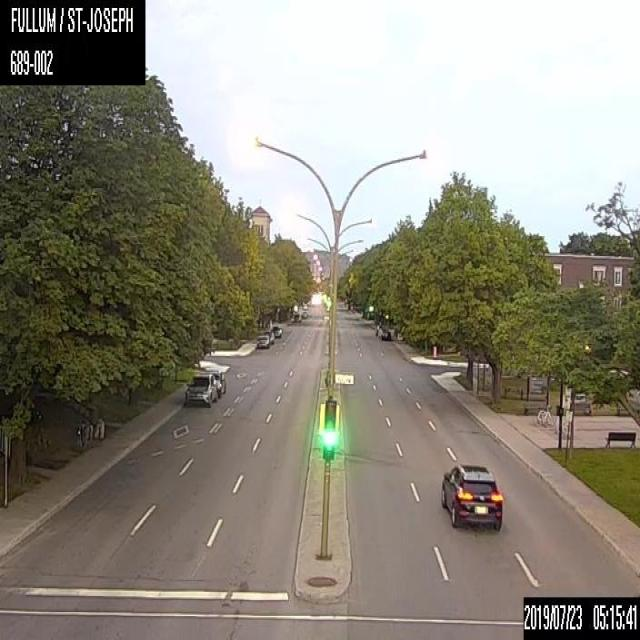vehicle: (439, 461, 503, 532), (184, 371, 217, 406), (208, 368, 225, 397), (256, 333, 268, 348), (263, 331, 274, 344), (380, 328, 390, 340), (272, 325, 282, 337), (290, 311, 301, 321), (300, 310, 307, 317), (302, 303, 307, 309)
